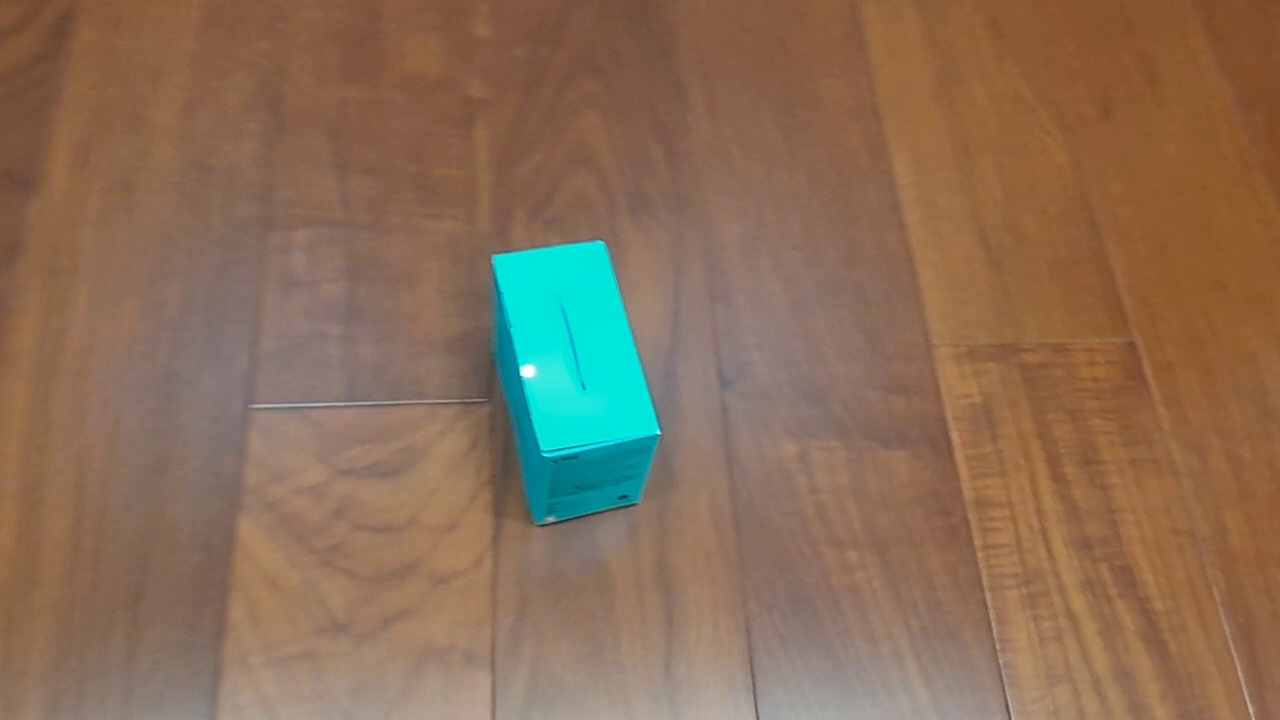webcam: (489, 239, 662, 528)
